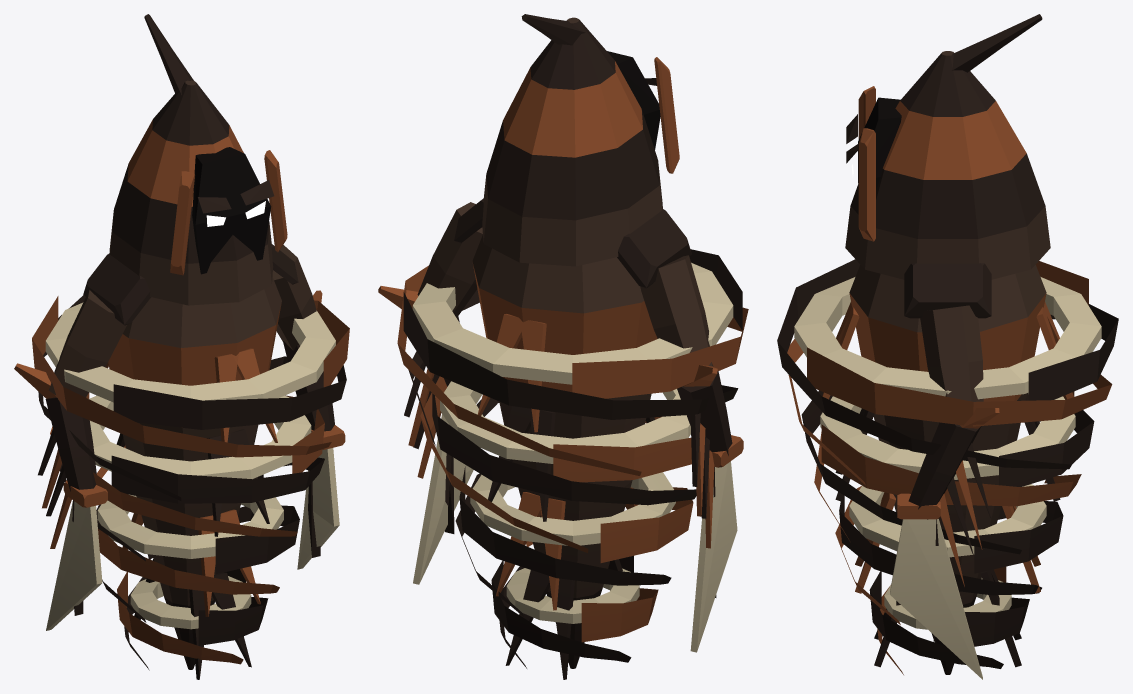
File: wraith.glb
3 views of the same model, side by side, from view 1: azimuth 30°, elevation 25°; view 2: azimuth 150°, elevation 25°; view 3: azimuth 270°, elevation 25° (orthographic). The views are drawn at different scales.
Visible parts, largest first — view 1: hood, body, ring4, ring3, ring2, armR, ring1, bladeR, bladeL, armL; view 2: hood, body, ring4, ring3, ring2, armR, ring1, armL, bladeR, bladeL; view 3: hood, ring4, body, ring3, armL, ring2, bladeL, ring1.
Part boxes in pixels (x1,y1,x2,y2): hood: [109, 14, 287, 305]; body: [83, 244, 298, 679]; ring4: [32, 295, 349, 500]; ring3: [59, 370, 324, 561]; ring2: [96, 474, 299, 622]; armR: [14, 290, 126, 548]; ring1: [117, 569, 268, 670]; bladeR: [46, 480, 107, 630]; bladeL: [297, 425, 345, 569]; armL: [272, 245, 334, 431]; hood: [482, 14, 679, 266]; body: [454, 198, 691, 679]; ring4: [397, 249, 748, 475]; ring3: [420, 376, 696, 552]; ring2: [455, 466, 693, 616]; armR: [640, 255, 732, 548]; ring1: [491, 555, 658, 668]; armL: [378, 202, 482, 478]; bladeR: [690, 435, 743, 652]; bladeL: [413, 414, 473, 584]; hood: [845, 14, 1050, 279]; ring4: [777, 259, 1118, 485]; body: [822, 263, 1073, 674]; ring3: [801, 390, 1094, 554]; armL: [908, 305, 999, 586]; ring2: [835, 484, 1063, 625]; bladeL: [890, 493, 982, 679]; ring1: [869, 566, 1029, 674].
Size of the model in its own units: 1.3 by 2.51 by 1.18.
